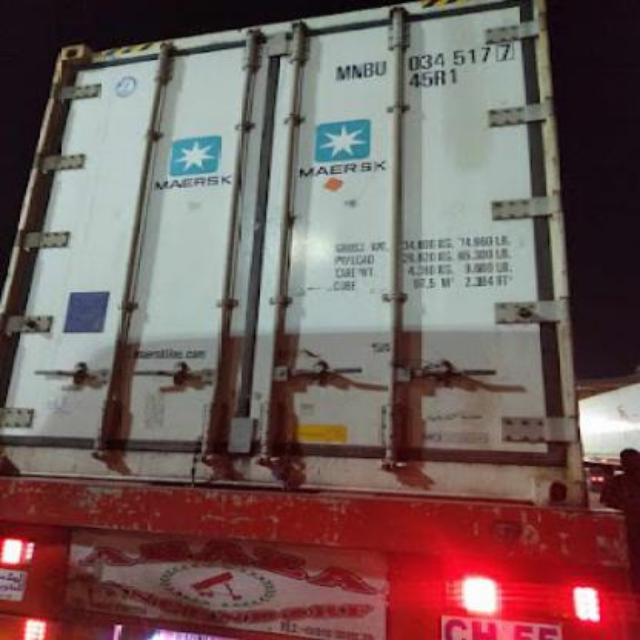0: (408, 55, 422, 71)
1: (468, 48, 476, 62)
3: (421, 54, 434, 70)
4: (432, 51, 448, 69)
5: (452, 50, 466, 66)
7: (478, 48, 492, 62), (500, 44, 512, 60)
B: (362, 64, 374, 80)
M: (334, 64, 352, 84)
N: (351, 62, 364, 78)
U: (374, 60, 388, 76)
